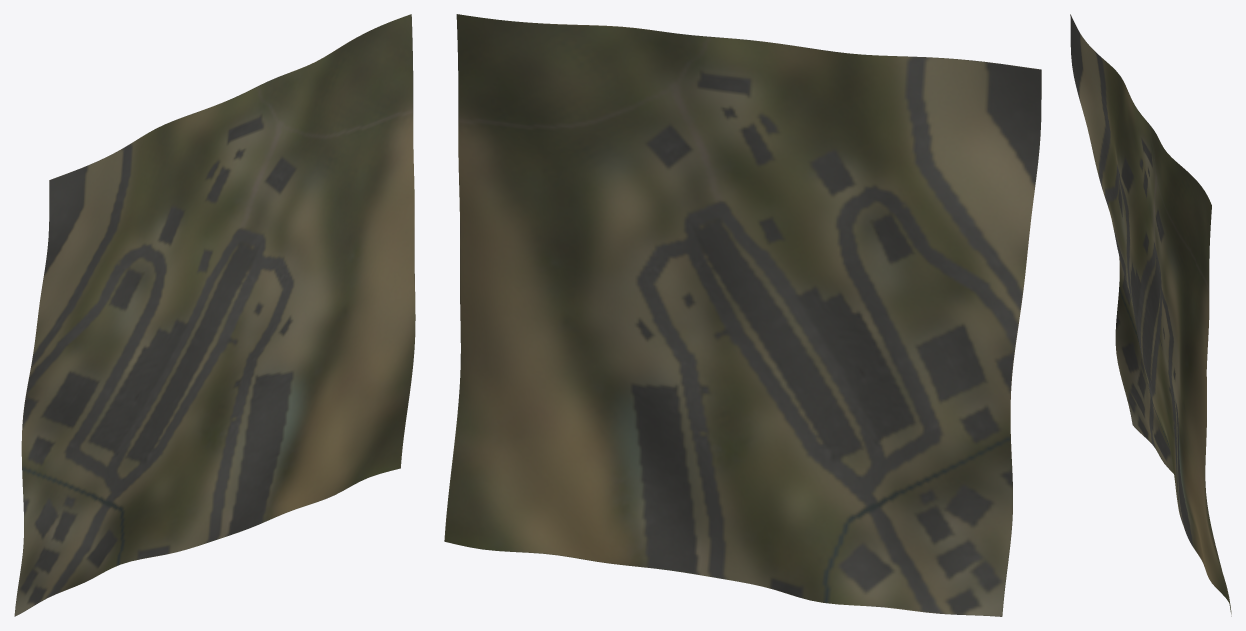
The model's file is ground_mid_03_01.obj.
3 renders of one model, left to right at view 1: azimuth 30°, elevation 25°; view 2: azimuth 150°, elevation 25°; view 3: azimuth 270°, elevation 25°, orthographic. The views are drawn at different scales.
Visible parts, largest first — view 1: ground_mid_03_01; view 2: ground_mid_03_01; view 3: ground_mid_03_01.
Boxes of the visible parts, x1=… form: ground_mid_03_01: x1=14, y1=14, x2=415, y2=616; ground_mid_03_01: x1=444, y1=14, x2=1041, y2=616; ground_mid_03_01: x1=1070, y1=14, x2=1231, y2=616.
Bounding box in the file's own units: 200 × 200 × 70.99.
1 material, 1 textured.
